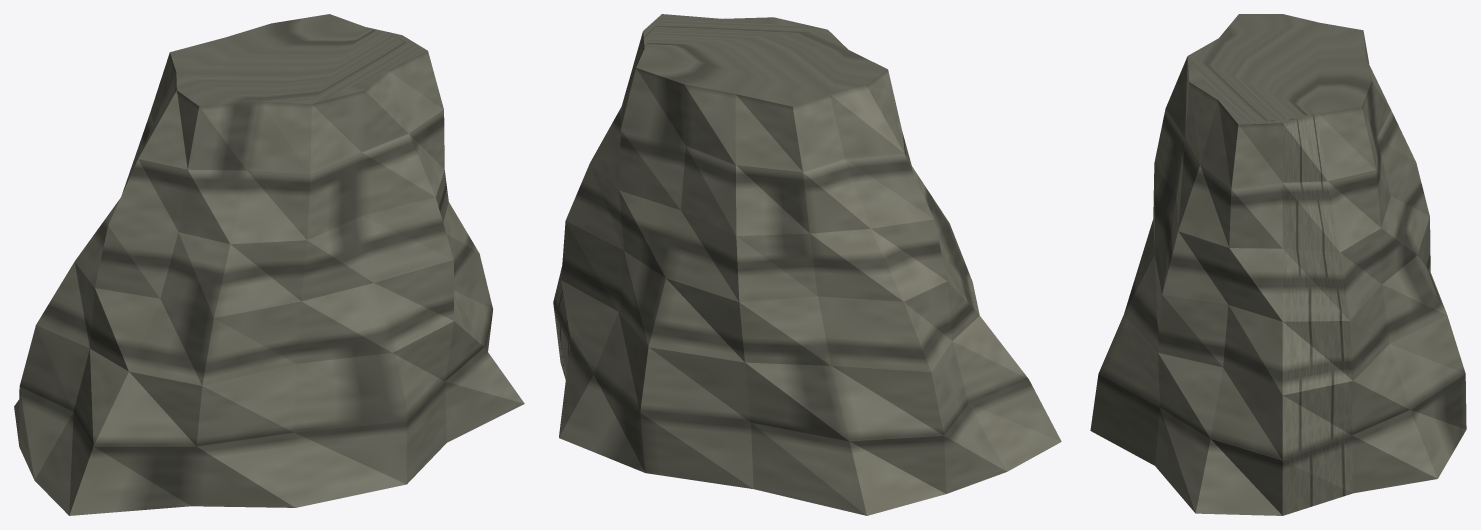
Rendered from cliff-granite-lod0.glb.
The picture shows the model from 3 angles, left to right: view 1: azimuth 30°, elevation 25°; view 2: azimuth 150°, elevation 25°; view 3: azimuth 270°, elevation 25°; orthographic projection.
Bounding box in the file's own units: 0.5243 × 0.38 × 0.3674.
Materials: 1 (1 with a texture image).
